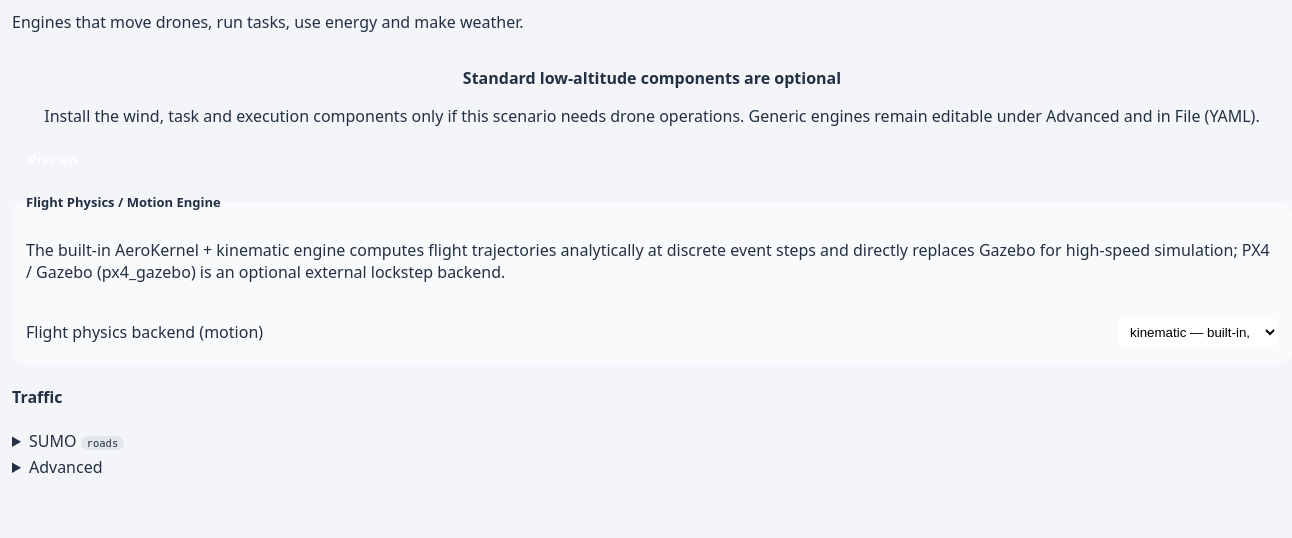
annotates the built-in kinematic engine as the Gazebo replacement and switches the flight backend
Expected: the element with test id "wb-flight-physics" shows "Flight Physics / Motion Engine", [26,193,221,211]
Expected: the element with test id "wb-flight-physics" shows "directly replaces Gazebo for high-speed simulation", [26,239,1270,283]
Select "px4_gazebo — PX4 / Gazebo, external" in the dropdown labelled "Flight physics backend (motion)" at (1198, 332), box [1118,317,1278,347]
Click the heading "Advanced".
click(66, 466)  # box [29,456,102,478]
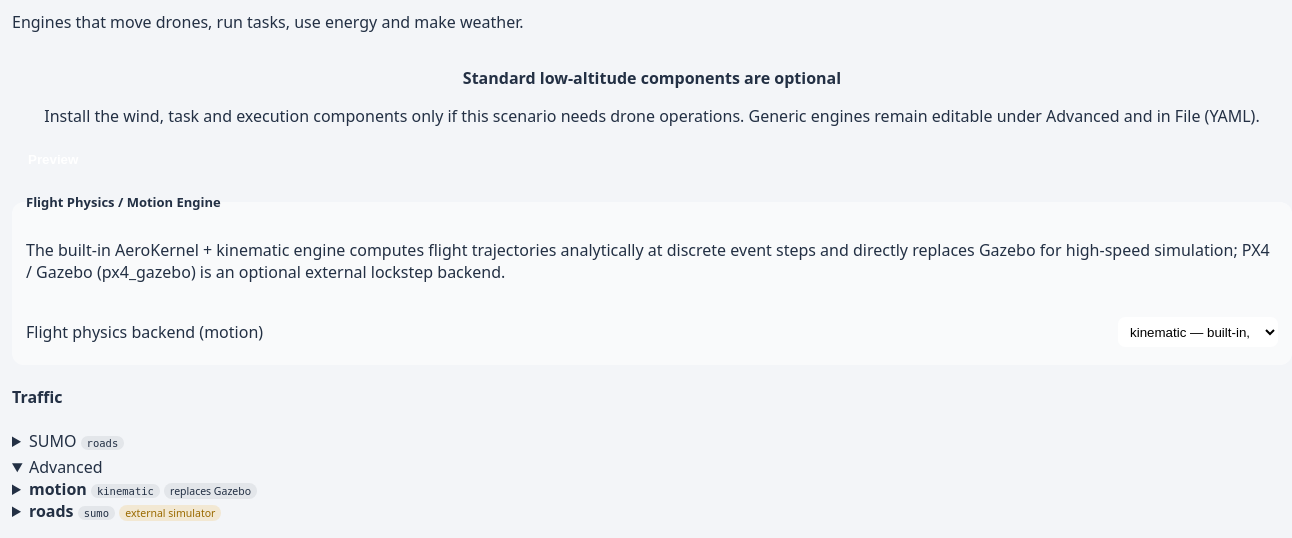
Expected: the text "replaces Gazebo" is shown, [164,482,257,498]
Expected: the text "external simulator" is shown, [119,504,222,520]
